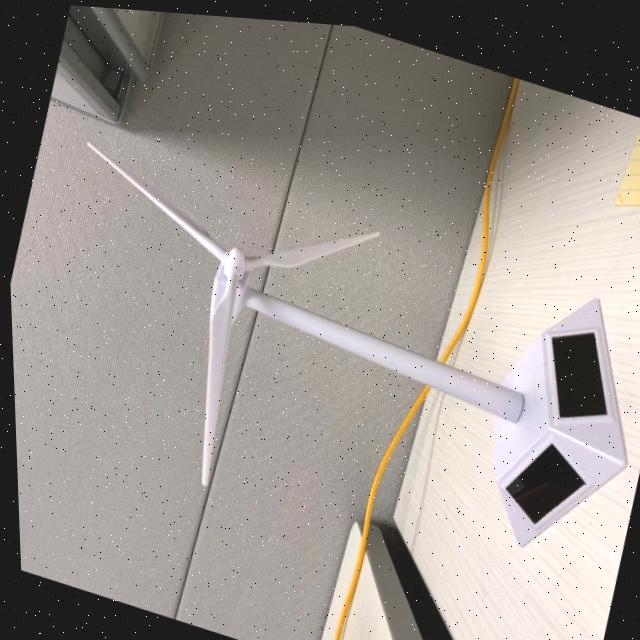solid-blade: (87, 140, 224, 256), (197, 273, 235, 482), (244, 226, 377, 264)
